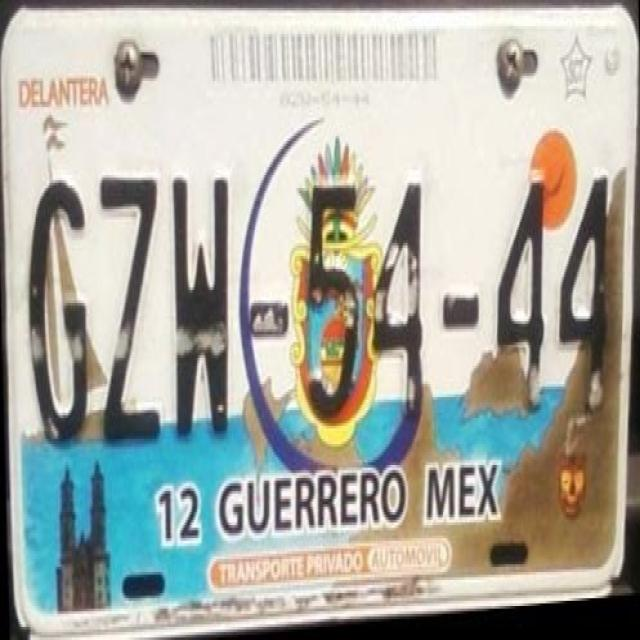placa: (14, 135, 622, 445)
